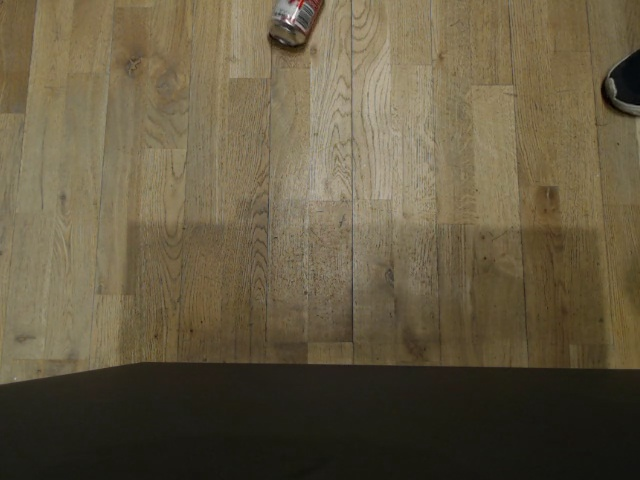cola: (265, 0, 322, 51)
